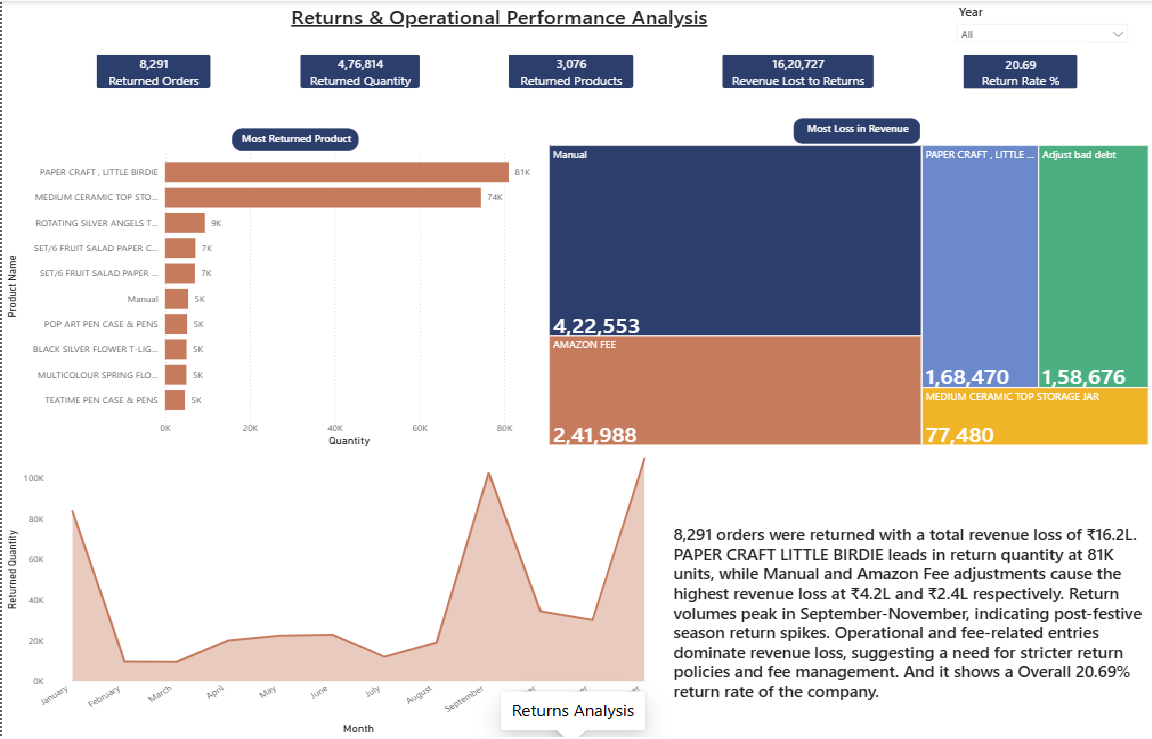

The page's visual inventory and layout, read from the dashboard file:
{"tool":"powerbi","page":{"name":"Returns Analysis","canvas":[1480,1080],"ordinal":2},"visuals":[{"type":"textbox","box":[319.6,0,640.8,46.7],"z":0},{"type":"cardVisual","fields":{"Data":["online_retail_project return_data.Returned Orders"]},"box":[102.9,60.4,183.9,85.1],"z":1000},{"type":"cardVisual","fields":{"Data":["online_retail_project return_data.Revenue Lost to Returns"]},"box":[908.3,60.4,231.9,85.1],"z":2000},{"type":"cardVisual","fields":{"Data":["online_retail_project return_data.Returned Products"]},"box":[633,60.4,197.6,85.1],"z":3000},{"type":"barChart","fields":{"Category":["online_retail_project return_data.Description"],"Y":["Sum(online_retail_project return_data.quantity_positive)"]},"box":[0,209.1,698.8,449.4],"z":4000},{"type":"cardVisual","fields":{"Data":["online_retail_project return_data.Returned Quantity"]},"box":[364.5,60.4,190.7,85.1],"z":5000},{"type":"treemap","fields":{"Group":["online_retail_project return_data.Description"],"Values":["online_retail_project return_data.Revenue Lost to Returns"]},"box":[698.8,207.3,781.4,449.4],"z":6000},{"type":"lineChart","fields":{"Y":["online_retail_project return_data.Returned Quantity"],"Category":["online_retail_project return_data.InvoiceDate.Variation.Date Hierarchy.Month"]},"box":[0,656.7,858.4,423.7],"z":7000},{"type":"slicer","fields":{"Values":["online_retail_project sales_data.Year"]},"box":[1217.9,0,240.3,69.7],"z":8000},{"type":"textbox","box":[295.3,187.1,163.2,33],"z":9000},{"type":"textbox","box":[1018,172.4,163.2,36.7],"z":10000},{"type":"textbox","box":[858.4,763,621.8,291.6],"z":11000},{"type":"cardVisual","fields":{"Data":["online_retail_project return_data.Return Rate %"]},"box":[1217.9,60.5,183.4,86.2],"z":12000}]}

Visuals, with their boxes on the page's 1480x1080 design canvas (x1, y1, x2, y2). These are canvas units, not pixel positions in the 1152x739 screenshot, which may show the page scaled, cropped or inside an application window:
textbox: region(320, 0, 960, 47)
cardVisual - online_retail_project return_data.Returned Orders: region(103, 60, 287, 146)
cardVisual - online_retail_project return_data.Revenue Lost to Returns: region(908, 60, 1140, 146)
cardVisual - online_retail_project return_data.Returned Products: region(633, 60, 831, 146)
barChart - online_retail_project return_data.Description x Sum(online_retail_project return_data.quantity_positive): region(0, 209, 699, 658)
cardVisual - online_retail_project return_data.Returned Quantity: region(364, 60, 555, 146)
treemap - online_retail_project return_data.Description x online_retail_project return_data.Revenue Lost to Returns: region(699, 207, 1480, 657)
lineChart - online_retail_project return_data.Returned Quantity x online_retail_project return_data.InvoiceDate.Variation.Date Hierarchy.Month: region(0, 657, 858, 1080)
slicer - online_retail_project sales_data.Year: region(1218, 0, 1458, 70)
textbox: region(295, 187, 458, 220)
textbox: region(1018, 172, 1181, 209)
textbox: region(858, 763, 1480, 1055)
cardVisual - online_retail_project return_data.Return Rate %: region(1218, 60, 1401, 147)
